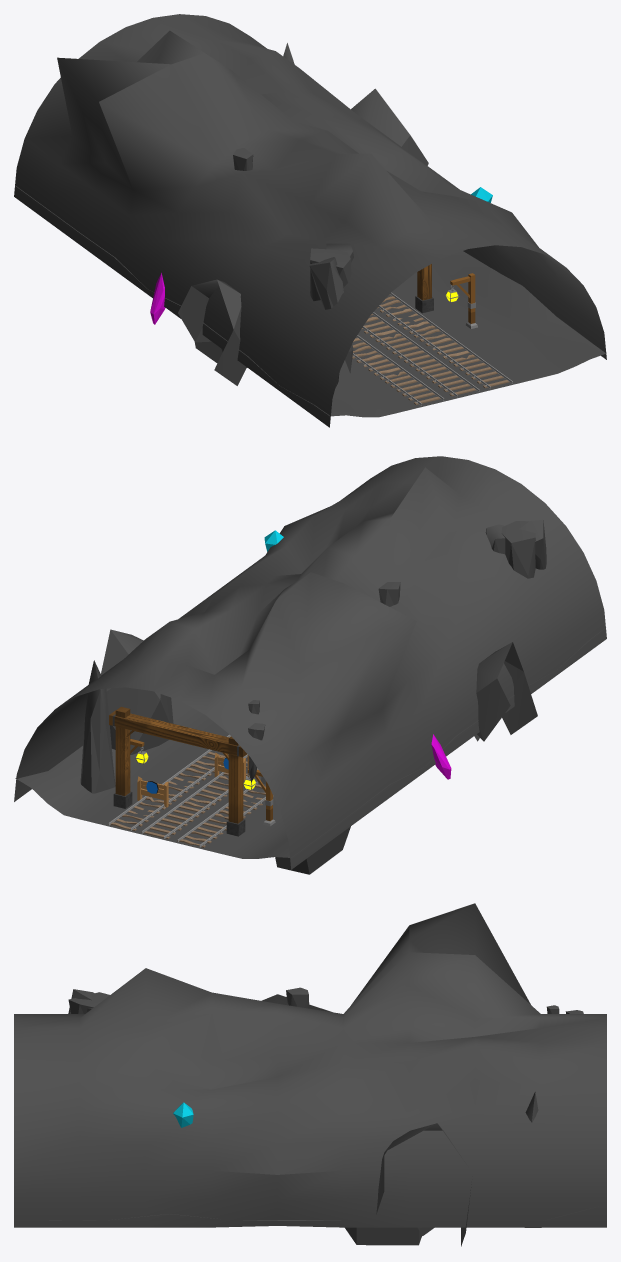
Rendered from Modulo Obstaculo 2.fbx.
3 views of the same model, one above another, from view 1: azimuth 30°, elevation 25°; view 2: azimuth 150°, elevation 25°; view 3: azimuth 270°, elevation 25° (orthographic). The views are drawn at different scales.
Parts seen in each view (by area): view 1: Cube.013; view 2: Cube.013; view 3: Cube.013.
Boxes of the visible parts, x1,y1,x2,y2 form: Cube.013: (14, 14, 606, 427); Cube.013: (14, 456, 606, 874); Cube.013: (14, 903, 606, 1246).
Bounding box in the file's own units: 2820 × 2480 × 4761.
